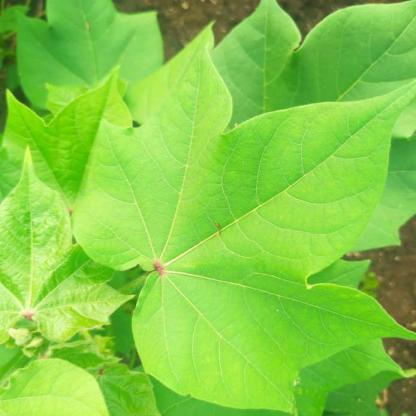cotton: (100, 57, 408, 391)
